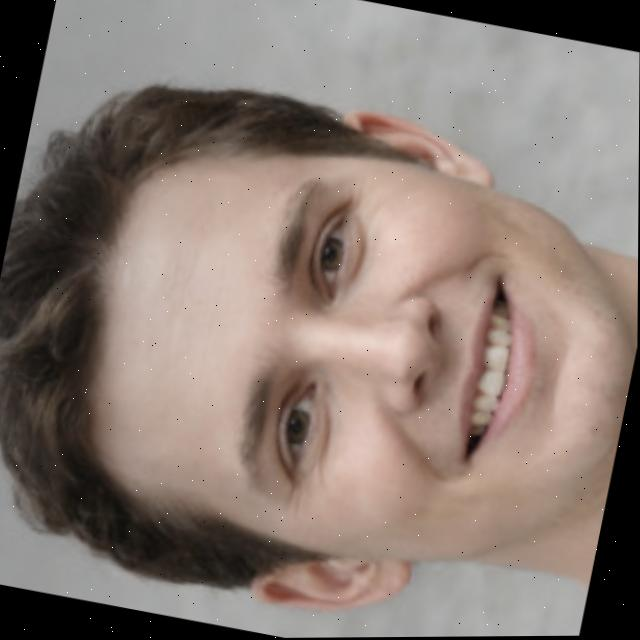happy: (0, 39, 640, 640)
